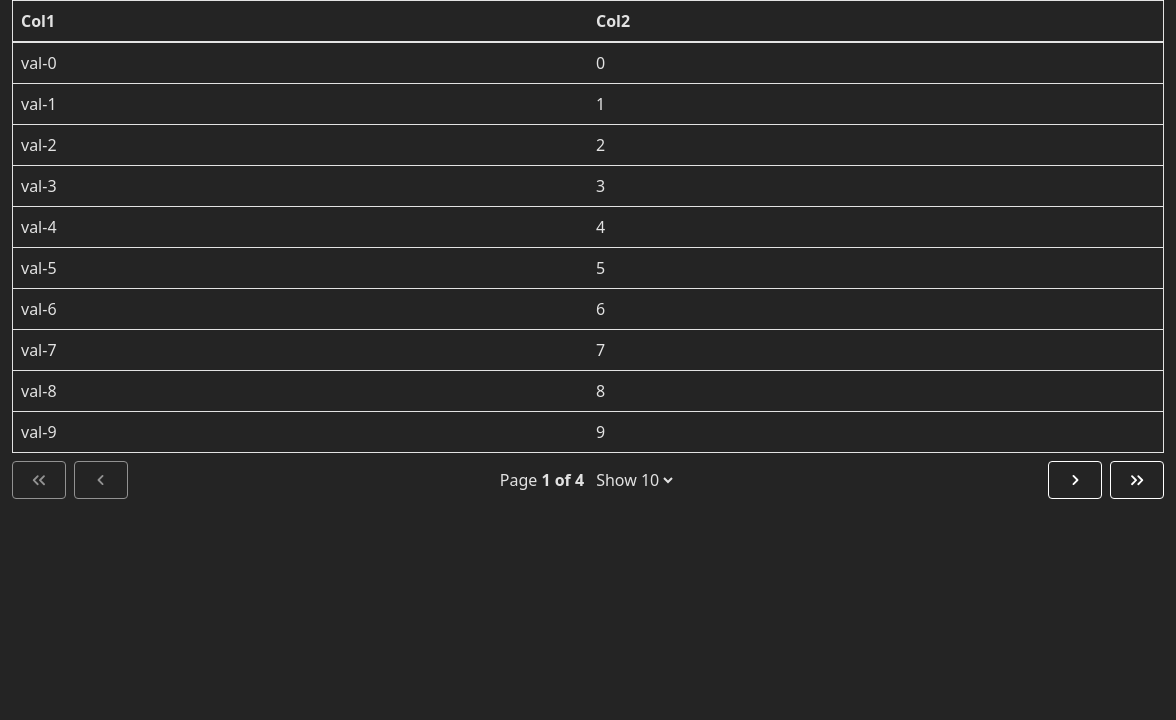
it: Table › sorts on header click
Click the button "Col1". click: (38, 21)
box: top-left (21, 9), bottom-right (55, 33)
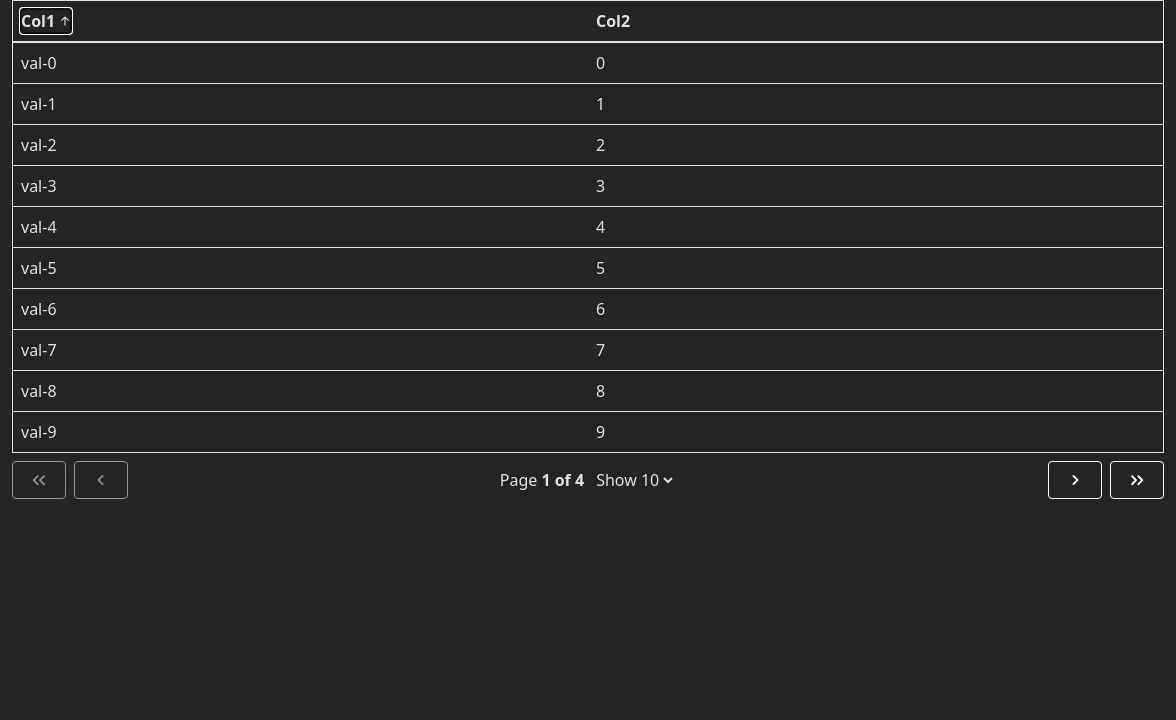
Expected: the text with test id "col1-cell" reads "val-0", top-left (21, 52), bottom-right (56, 74)
Click the button "Col1". click: (46, 21)
box: top-left (21, 9), bottom-right (71, 33)
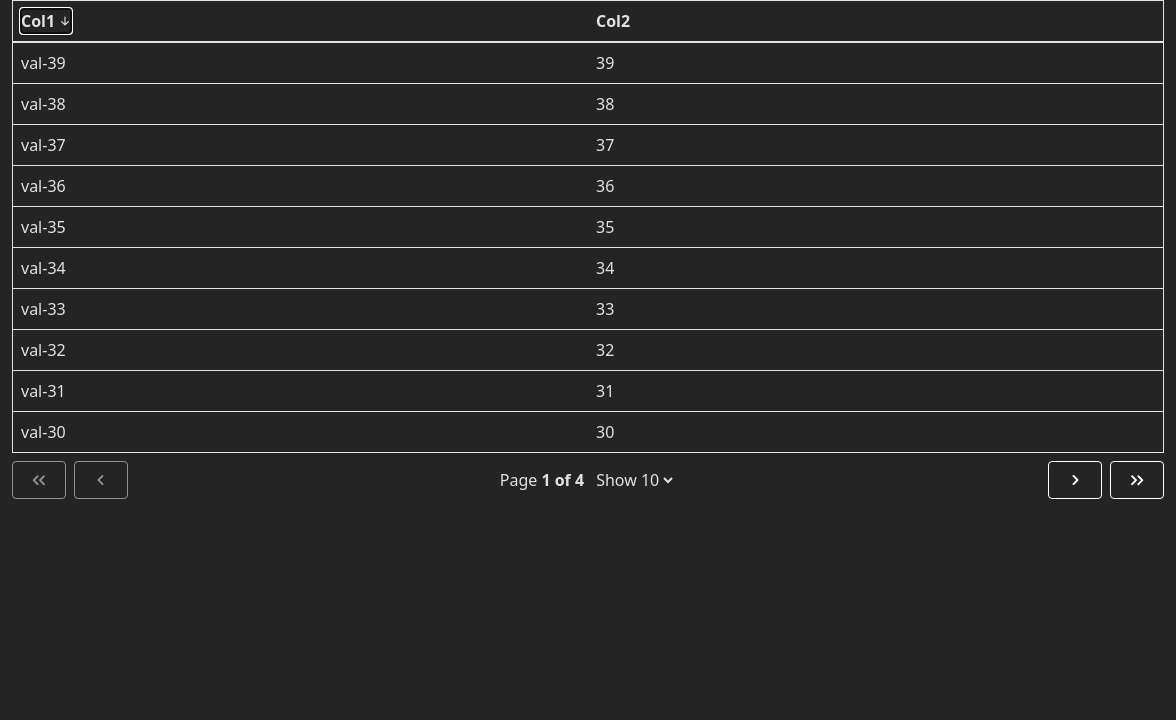
Expected: the text with test id "col1-cell" reads "val-39", top-left (21, 52), bottom-right (66, 74)
